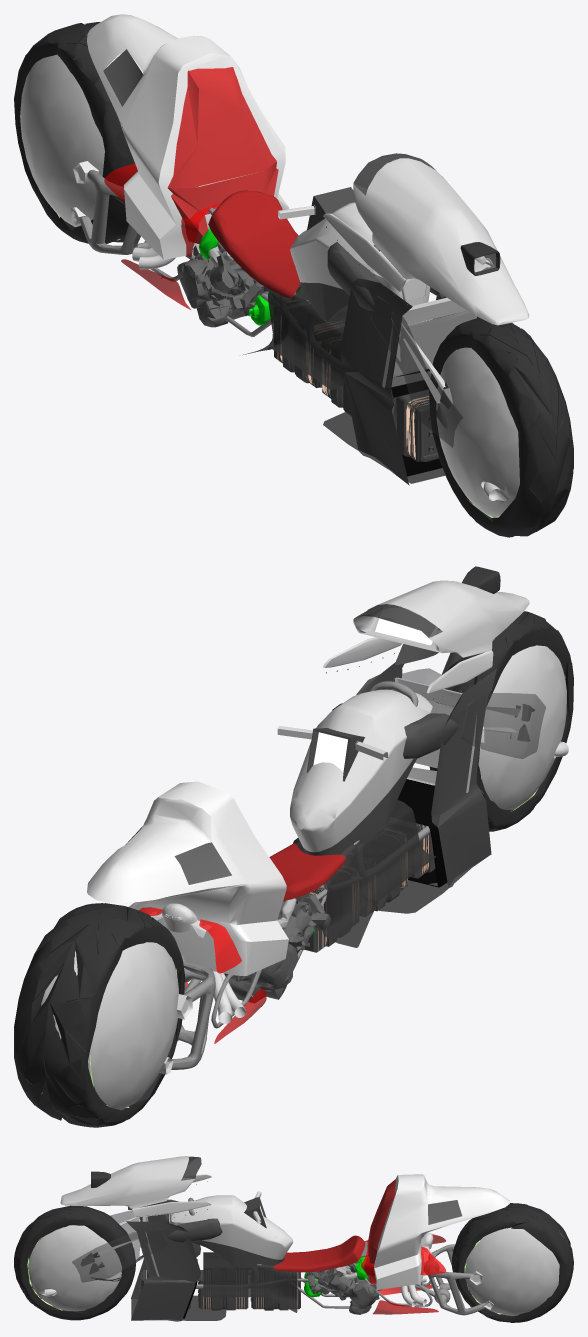
File: bike.akira.lod1.200035ba7f.glb
3 renders of one model, top to bottom at view 1: azimuth 30°, elevation 25°; view 2: azimuth 150°, elevation 25°; view 3: azimuth 270°, elevation 25°, orthographic. The views are drawn at different scales.
Visible parts, largest first — view 1: akira_body, Tire, Tire.001; view 2: akira_body, Tire.001, Tire; view 3: akira_body, Tire.001, Tire.
Boxes of the visible parts, bbox=[...] form: akira_body: bbox=[20, 14, 529, 517]; Tire: bbox=[429, 317, 573, 537]; Tire.001: bbox=[14, 22, 137, 243]; akira_body: bbox=[41, 566, 568, 1110]; Tire.001: bbox=[14, 903, 184, 1127]; Tire: bbox=[429, 611, 573, 831]; akira_body: bbox=[28, 1156, 562, 1321]; Tire.001: bbox=[452, 1203, 573, 1322]; Tire: bbox=[14, 1205, 135, 1320].
Bounding box in the file's own units: 0.4218 × 0.9133 × 2.9.
